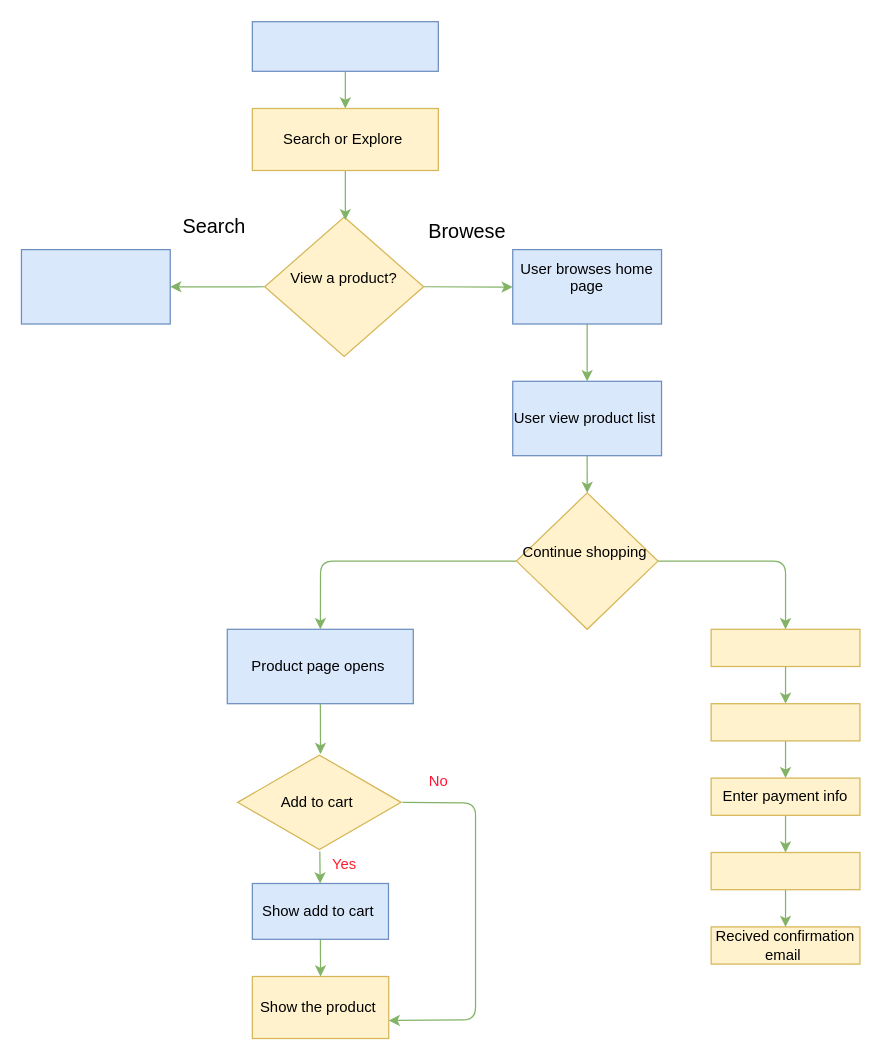
Some shapes in this 883 by 1060 pixel diagram are drawn without their labels. Here are the shapes that lost their labels. From the top down, the centre of each, then its label:
At [344,45]: "Start: User enters website".
At [95,286]: "User types a product to search".
At [785,647]: "View cart".
At [785,721]: "View payment".
At [785,870]: "Show order confirmed".
